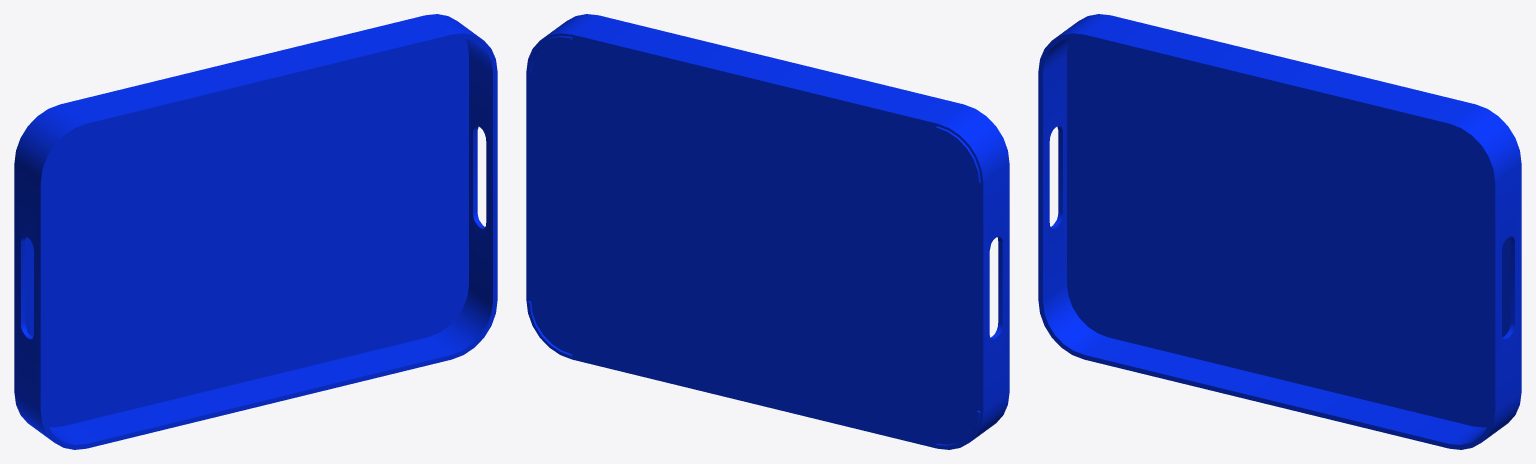
File: plastic_tray.obj
3 views of the same model, side by side, from view 1: azimuth 30°, elevation 25°; view 2: azimuth 150°, elevation 25°; view 3: azimuth 330°, elevation 25° (orthographic).
Size of the model in its own units: 0.5 by 0.34 by 0.053.
